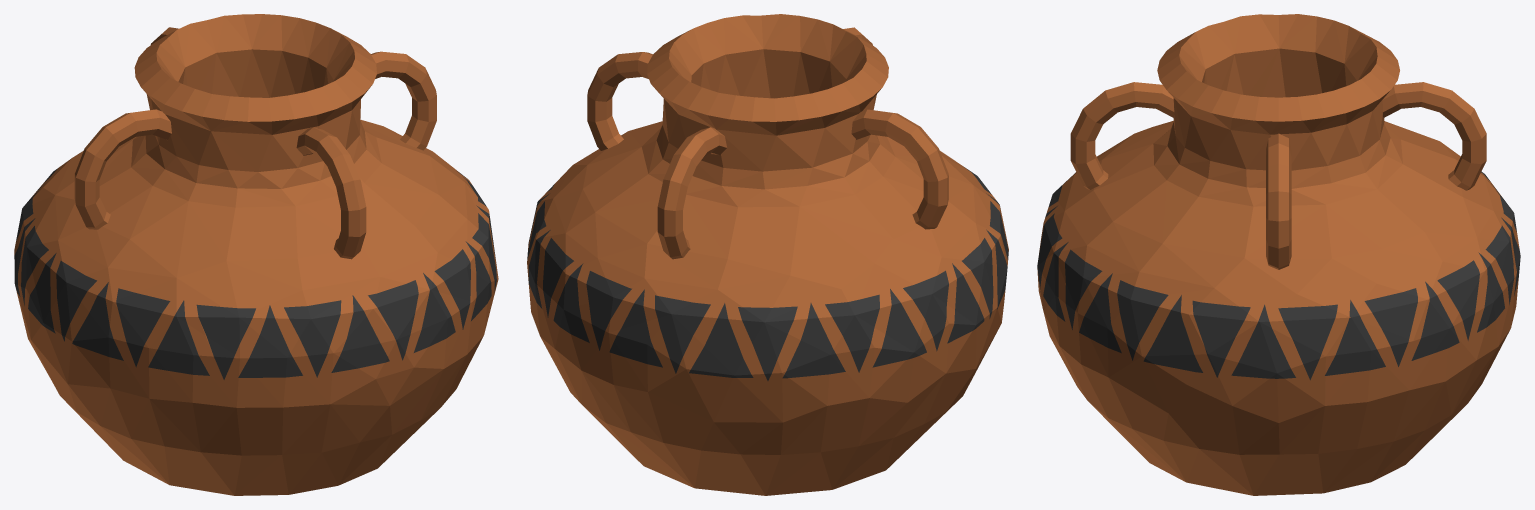
The model's file is Pottery 23_3.fbx.
3 views of the same model, side by side, from view 1: azimuth 30°, elevation 25°; view 2: azimuth 150°, elevation 25°; view 3: azimuth 270°, elevation 25° (orthographic).
Parts seen in each view (by area): view 1: Pottery 23_3; view 2: Pottery 23_3; view 3: Pottery 23_3.
Boxes of the visible parts, left/top/right/bottom form: Pottery 23_3: left=14, top=14, right=498, bottom=495; Pottery 23_3: left=527, top=14, right=1008, bottom=495; Pottery 23_3: left=1037, top=14, right=1520, bottom=495.
Size of the model in its own units: 53.28 by 45.94 by 52.98.
